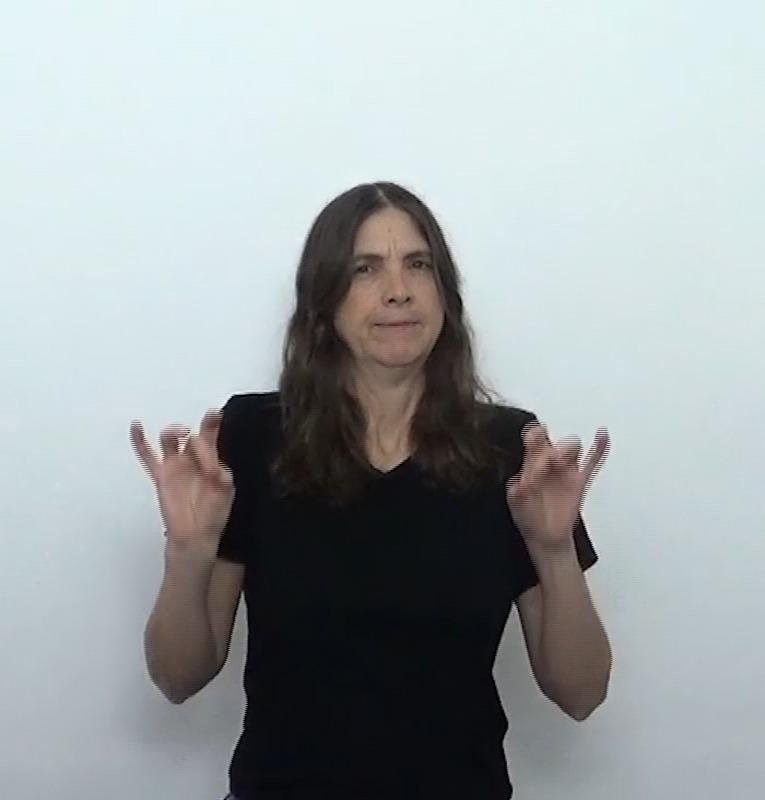Dolor: (114, 164, 659, 755)
